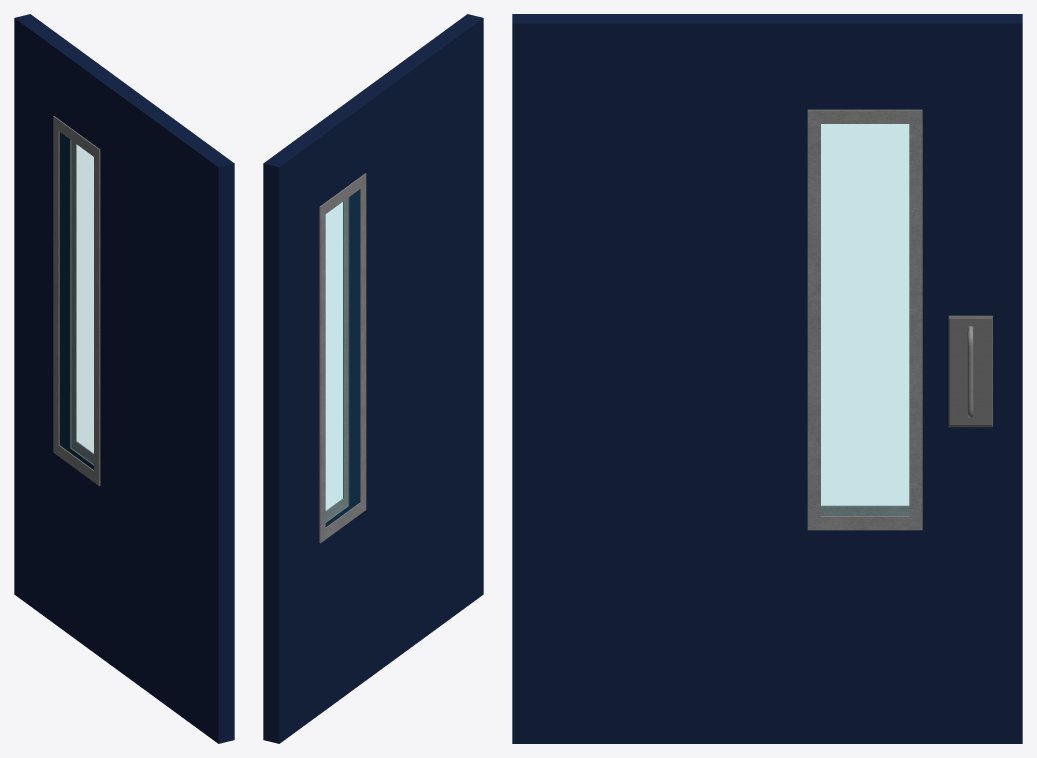
The model's file is investigator room door.fbx.
3 views of the same model, side by side, from view 1: azimuth 30°, elevation 25°; view 2: azimuth 150°, elevation 25°; view 3: azimuth 270°, elevation 25° (orthographic). The views are drawn at different scales.
Visible parts, largest first — view 1: polySurface1556; view 2: polySurface1556; view 3: polySurface1556.
Boxes of the visible parts, x1,y1,x2,y2 form: polySurface1556: (14, 14, 234, 743); polySurface1556: (263, 14, 483, 743); polySurface1556: (512, 14, 1022, 743).
Bounding box in the file's own units: 0.1119 × 2.1 × 1.35.
2 materials, 1 textured.
